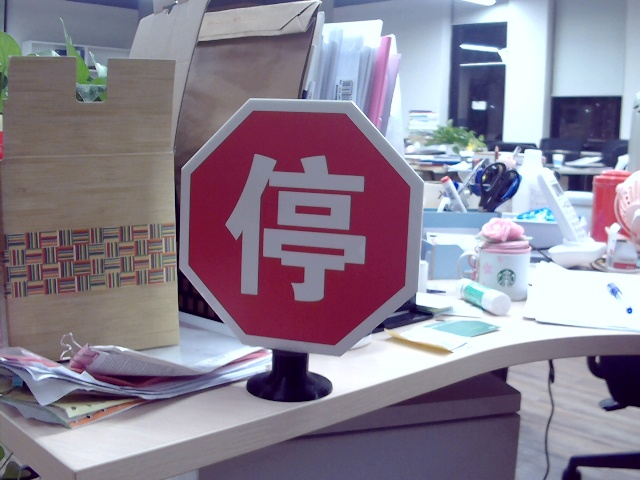stop: (226, 140, 380, 303)
